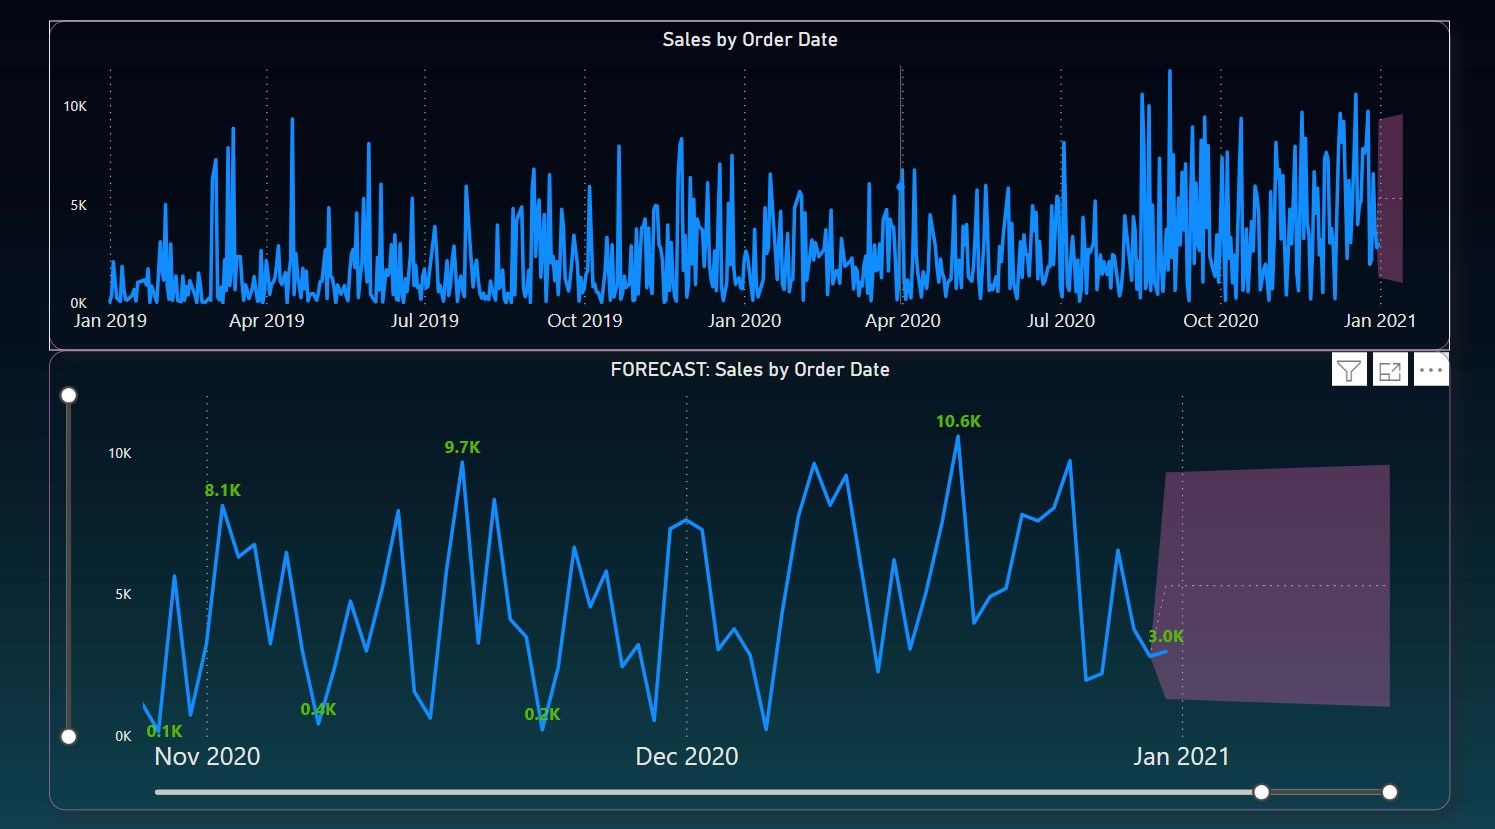

The page's visual inventory and layout, read from the dashboard file:
{"tool":"powerbi","page":{"name":"Forecast","canvas":[1280,720],"ordinal":1},"visuals":[{"type":"lineChart","title":"Sales by Order Date","fields":{"Y":["Sum(SuperStore_Sales_Dataset.Sales)"],"Category":["SuperStore_Sales_Dataset.Order Date"]},"box":[45.7,24.3,1188.6,280],"z":0},{"type":"lineChart","title":"FORECAST: Sales by Order Date","fields":{"Y":["Sum(SuperStore_Sales_Dataset.Sales)"],"Category":["SuperStore_Sales_Dataset.Order Date"]},"box":[45.7,304.3,1188.6,390],"z":1}]}

Visuals, with their boxes in screenshot pixels (x1, y1, x2, y2), scaled from the page's 1280x720 canvas onto the 1495x829 screenshot:
"Sales by Order Date" lineChart: select_region(53, 28, 1442, 350)
"FORECAST: Sales by Order Date" lineChart: select_region(53, 350, 1442, 799)
